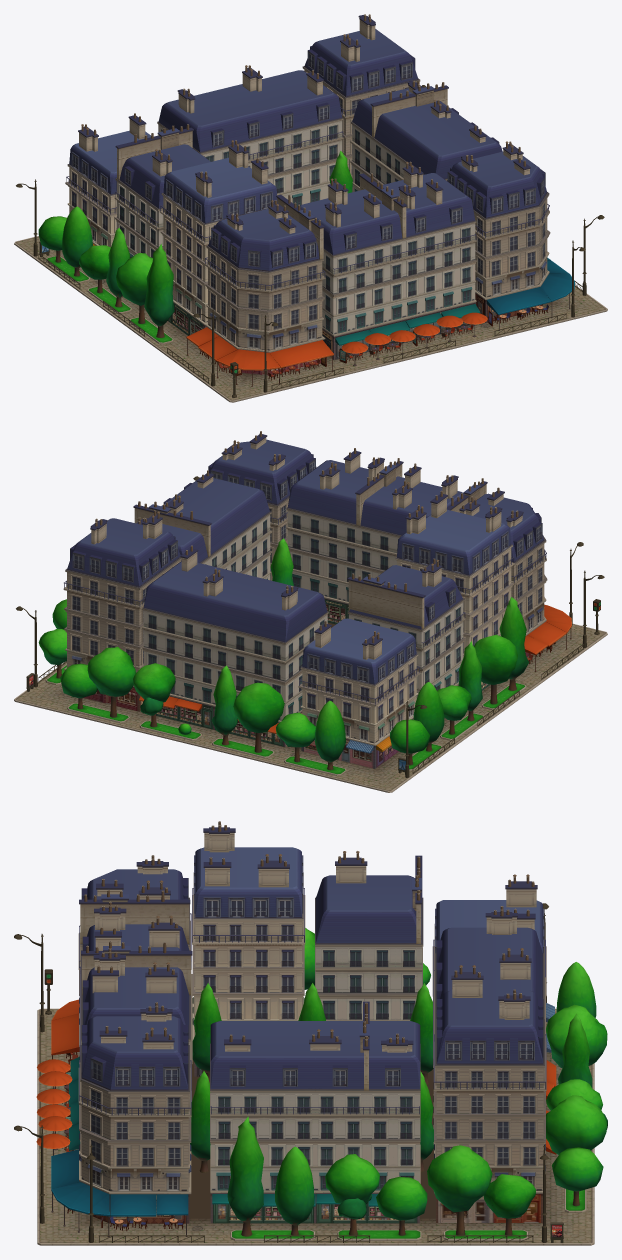
Rendered from map_MK3.glb.
The picture shows the model from 3 angles, top to bottom: view 1: azimuth 30°, elevation 25°; view 2: azimuth 150°, elevation 25°; view 3: azimuth 270°, elevation 25°; orthographic projection. The views are drawn at different scales.
Visible parts, largest first — view 1: Object134, Object123, tree, Box103; view 2: Object134, tree, Object123, Box103; view 3: Object134, tree, Object123, Box103.
Part boxes in pixels (left/top/right/bottom): Object134: left=65, top=14, right=574, bottom=386; Object123: left=14, top=85, right=607, bottom=402; tree: left=38, top=151, right=352, bottom=337; Box103: left=168, top=293, right=542, bottom=375; Object134: left=63, top=431, right=571, bottom=753; tree: left=38, top=538, right=528, bottom=770; Object123: left=14, top=476, right=607, bottom=792; Box103: left=83, top=598, right=531, bottom=768; Object134: left=36, top=821, right=556, bottom=1237; tree: left=190, top=928, right=607, bottom=1236; Object123: left=14, top=903, right=594, bottom=1245; Box103: left=88, top=1062, right=542, bottom=1223.
Bounding box in the file's own units: 51.51 × 20.94 × 50.66.
3 materials, 3 textured.
